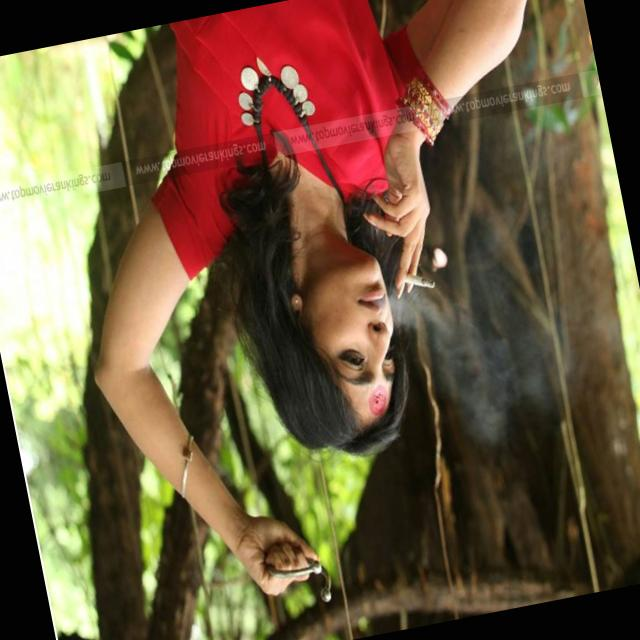smoke: (402, 268, 436, 294)
